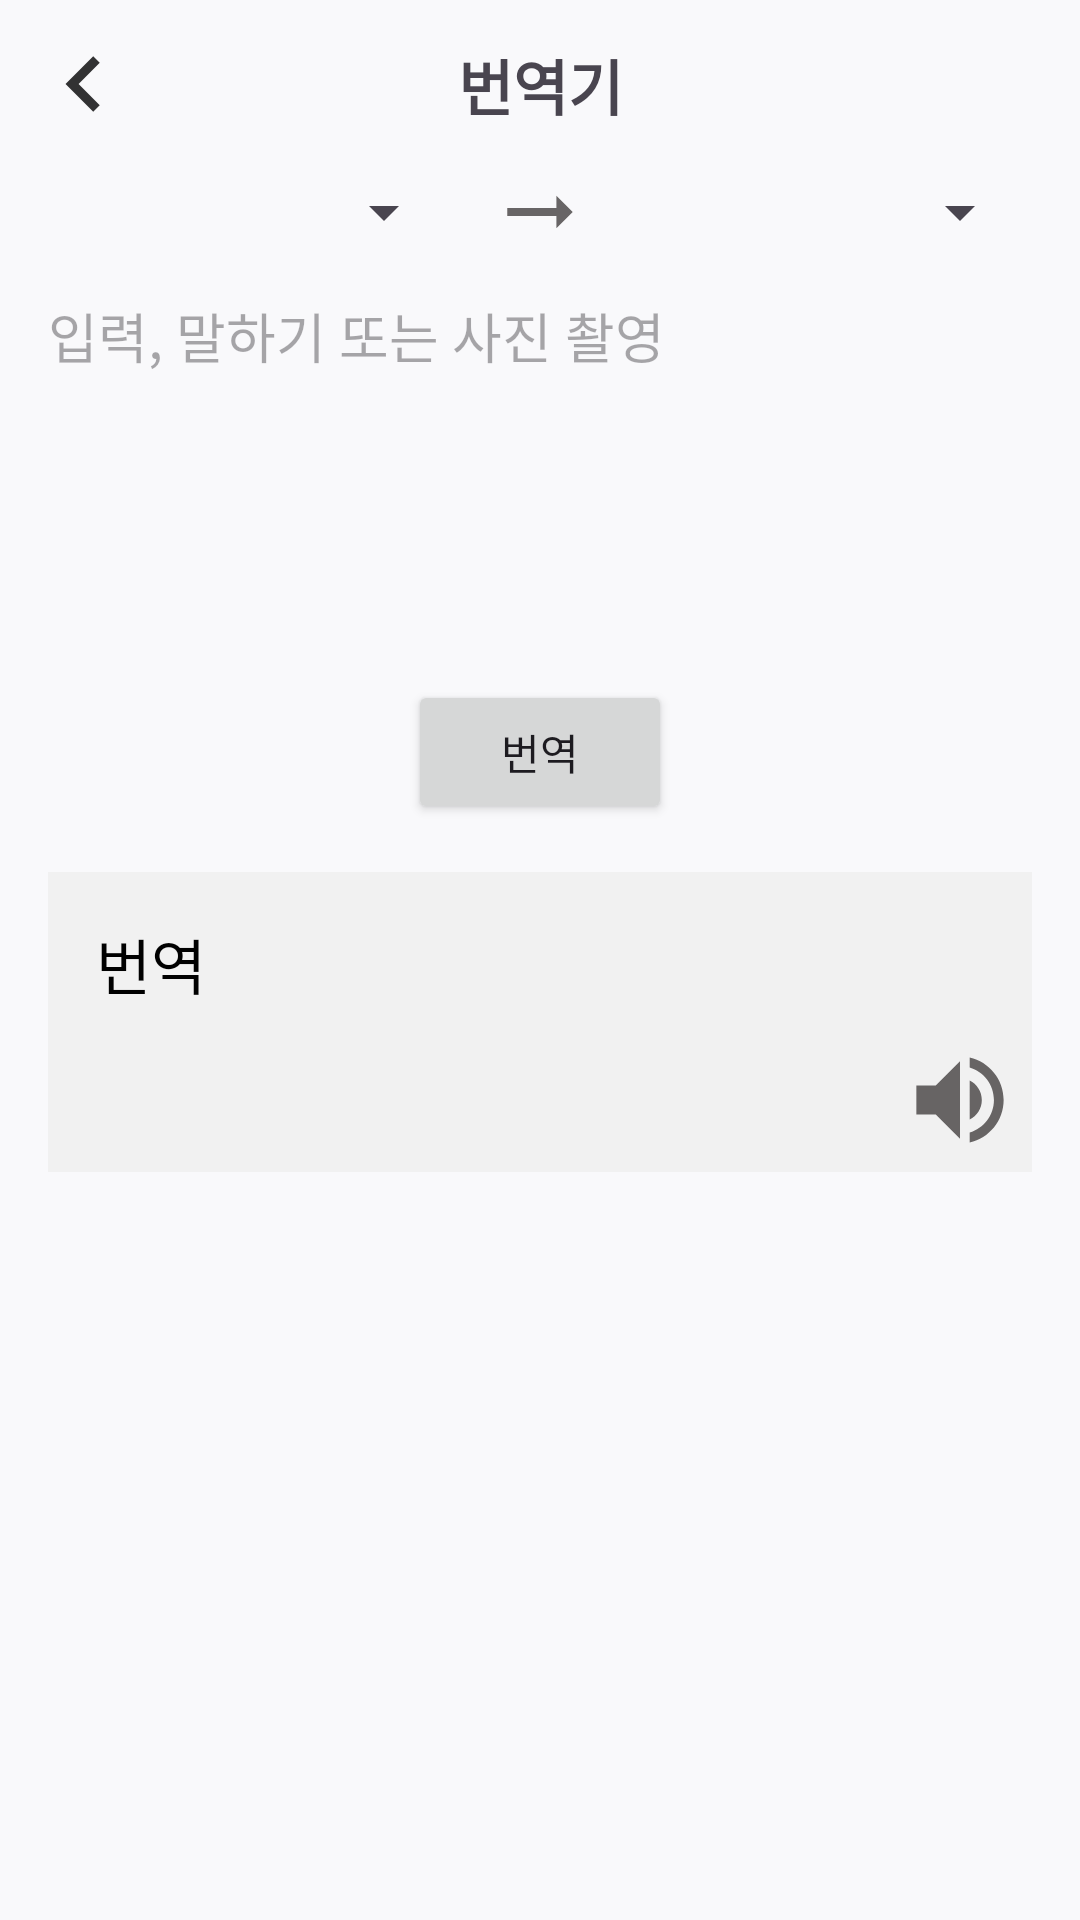

Point at icon controls on the screen. Image size 1080 x 1920, points as (x,y).
arrow: (540,212)
back: (83,84)
volume: (960,1100)
